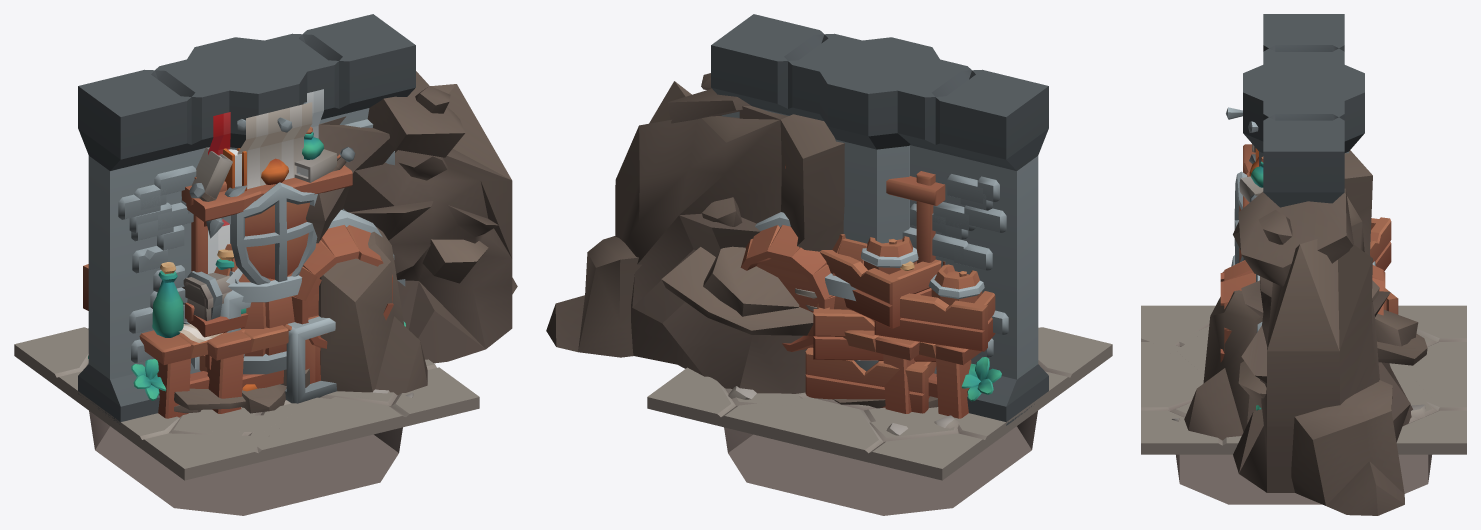
File: dungeon.glb
3 views of the same model, side by side, from view 1: azimuth 30°, elevation 25°; view 2: azimuth 150°, elevation 25°; view 3: azimuth 270°, elevation 25° (orthographic). The views are drawn at different scales.
Visible parts, largest first — view 1: rubble_half, wall, wall_shelves, floor_tile_large_rocks, pillar_decorated, floor_tile_big_grate, keg_decorated, wall_archedwindow_gated, wall_cracked, wall_window_closed, floor_tile_large, pillar (+7 smaller); view 2: rubble_half, wall_shelves, wall, floor_tile_large_rocks, keg_decorated, crates_stacked, floor_tile_big_grate, pillar, floor_tile_large, pillar_decorated, wall_window_closed, table_medium_decorated_A (+5 smaller); view 3: rubble_half, floor_tile_large_rocks, wall, wall_shelves, floor_tile_big_grate, pillar_decorated, pillar, floor_dirt_large, keg_decorated, crates_stacked, floor_tile_large.
Part boxes in pixels (bbox=[...]): rubble_half: bbox=[306, 71, 517, 395]; wall: bbox=[78, 14, 415, 424]; wall_shelves: bbox=[78, 14, 402, 409]; floor_tile_large_rocks: bbox=[14, 327, 479, 475]; pillar_decorated: bbox=[184, 42, 355, 284]; floor_tile_big_grate: bbox=[95, 426, 398, 515]; keg_decorated: bbox=[83, 210, 394, 418]; wall_archedwindow_gated: bbox=[89, 105, 400, 379]; wall_cracked: bbox=[88, 108, 405, 400]; wall_window_closed: bbox=[110, 108, 404, 377]; floor_tile_large: bbox=[14, 344, 479, 480]; pillar: bbox=[180, 37, 313, 243]; rubble_half: bbox=[546, 73, 844, 393]; wall_shelves: bbox=[711, 14, 1048, 421]; wall: bbox=[711, 14, 1048, 425]; floor_tile_large_rocks: bbox=[647, 327, 1112, 480]; keg_decorated: bbox=[740, 212, 995, 418]; crates_stacked: bbox=[805, 236, 945, 413]; floor_tile_big_grate: bbox=[728, 426, 1031, 515]; pillar: bbox=[813, 37, 939, 239]; floor_tile_large: bbox=[647, 349, 1112, 479]; pillar_decorated: bbox=[814, 38, 946, 243]; wall_window_closed: bbox=[785, 164, 992, 270]; table_medium_decorated_A: bbox=[795, 288, 919, 413]; rubble_half: bbox=[1184, 150, 1427, 515]; floor_tile_large_rocks: bbox=[1141, 305, 1466, 445]; wall: bbox=[1263, 14, 1344, 207]; wall_shelves: bbox=[1239, 14, 1344, 207]; floor_tile_big_grate: bbox=[1179, 454, 1428, 504]; pillar_decorated: bbox=[1226, 59, 1364, 264]; pillar: bbox=[1243, 57, 1364, 149]; floor_dirt_large: bbox=[1141, 336, 1466, 454]; keg_decorated: bbox=[1220, 260, 1383, 362]; crates_stacked: bbox=[1370, 217, 1398, 314]; floor_tile_large: bbox=[1141, 326, 1466, 445].
Size of the model in its own units: 6 by 5 by 4.
1 material, 1 textured.
